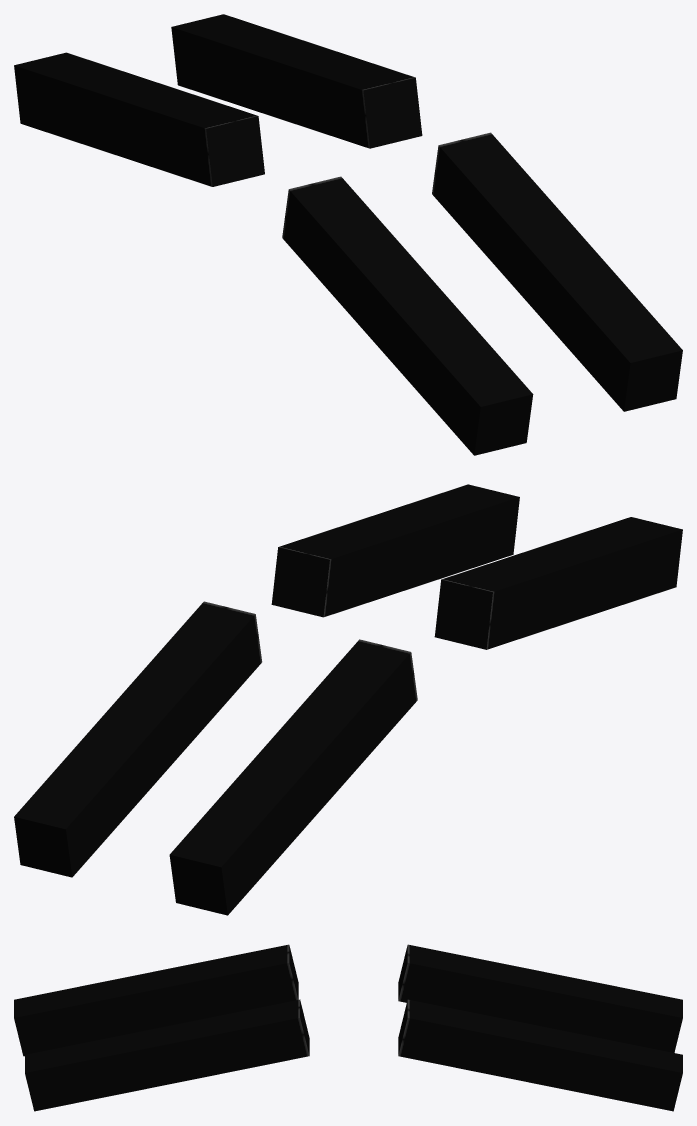
Rendered from export_hv_fuse_open.obj.
3 views of the same model, one above another, from view 1: azimuth 30°, elevation 25°; view 2: azimuth 150°, elevation 25°; view 3: azimuth 270°, elevation 25° (orthographic). The views are drawn at different scales.
Parts seen in each view (by area): view 1: fuse3, fuse2, fuse1, fuse4; view 2: fuse4, fuse1, fuse2, fuse3; view 3: fuse2, fuse4, fuse3, fuse1.
Part boxes in pixels (x1,y1,x2,y2): fuse3: [282, 176, 533, 455]; fuse2: [432, 132, 682, 411]; fuse1: [14, 52, 264, 186]; fuse4: [171, 14, 422, 148]; fuse4: [14, 601, 262, 877]; fuse1: [169, 639, 417, 915]; fuse2: [271, 484, 519, 617]; fuse3: [434, 517, 682, 649]; fuse2: [25, 999, 309, 1111]; fuse4: [398, 999, 682, 1111]; fuse3: [14, 944, 298, 1056]; fuse1: [398, 944, 682, 1052].
Size of the model in its own units: 1 by 0.5958 by 3.86.
Materials: 1 (1 with a texture image).
